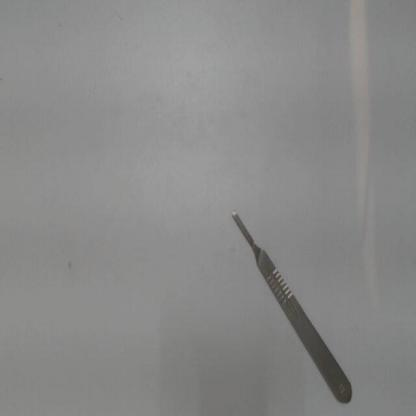No.4 BP Handle: (226, 205, 358, 410)
